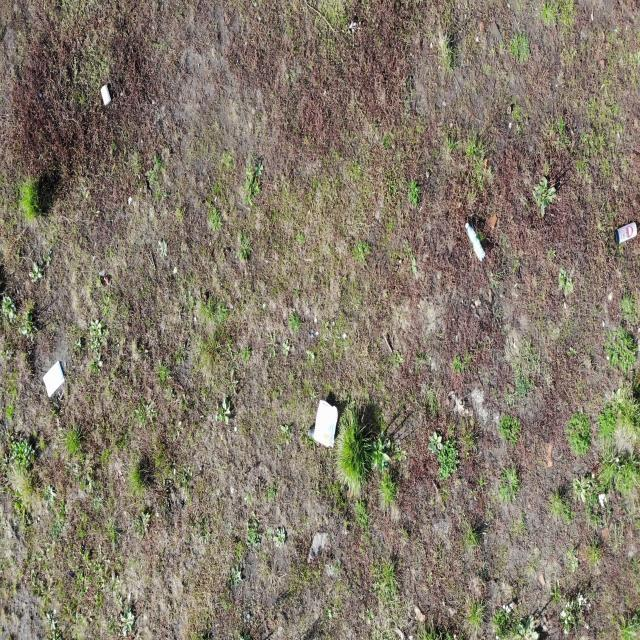rubbish: (312, 397, 339, 449), (42, 357, 67, 398), (465, 221, 487, 261), (614, 218, 638, 248), (99, 82, 111, 107), (305, 430, 323, 446)
